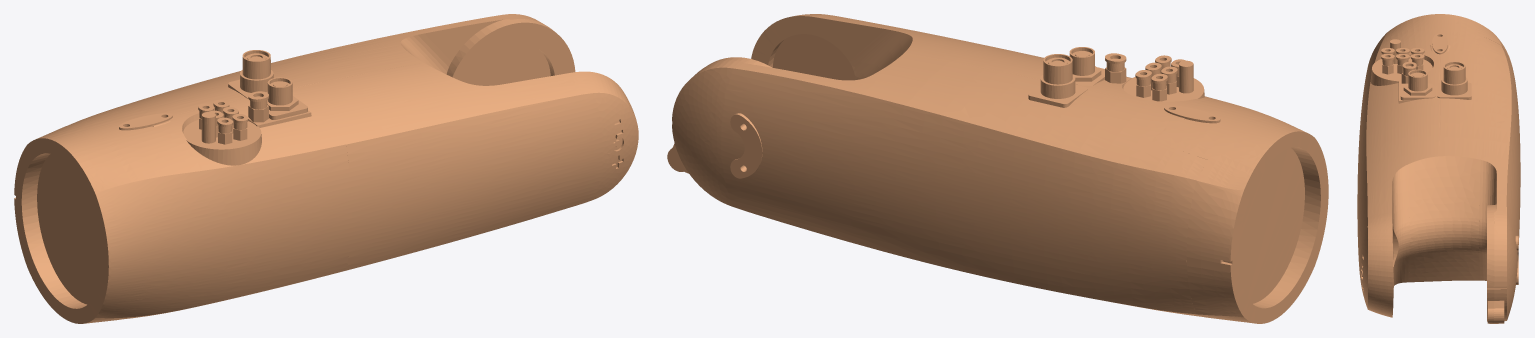
3 views of the same model, side by side, from view 1: azimuth 30°, elevation 25°; view 2: azimuth 150°, elevation 25°; view 3: azimuth 270°, elevation 25° (orthographic). The views are drawn at different scales.
Parts seen in each view (by area): view 1: link_4; view 2: link_4; view 3: link_4.
Boxes of the visible parts, bbox=[...] form: link_4: bbox=[14, 14, 638, 323]; link_4: bbox=[667, 14, 1328, 323]; link_4: bbox=[1357, 14, 1520, 323].
Bounding box in the file's own units: 0.359 × 0.1182 × 0.1291.
